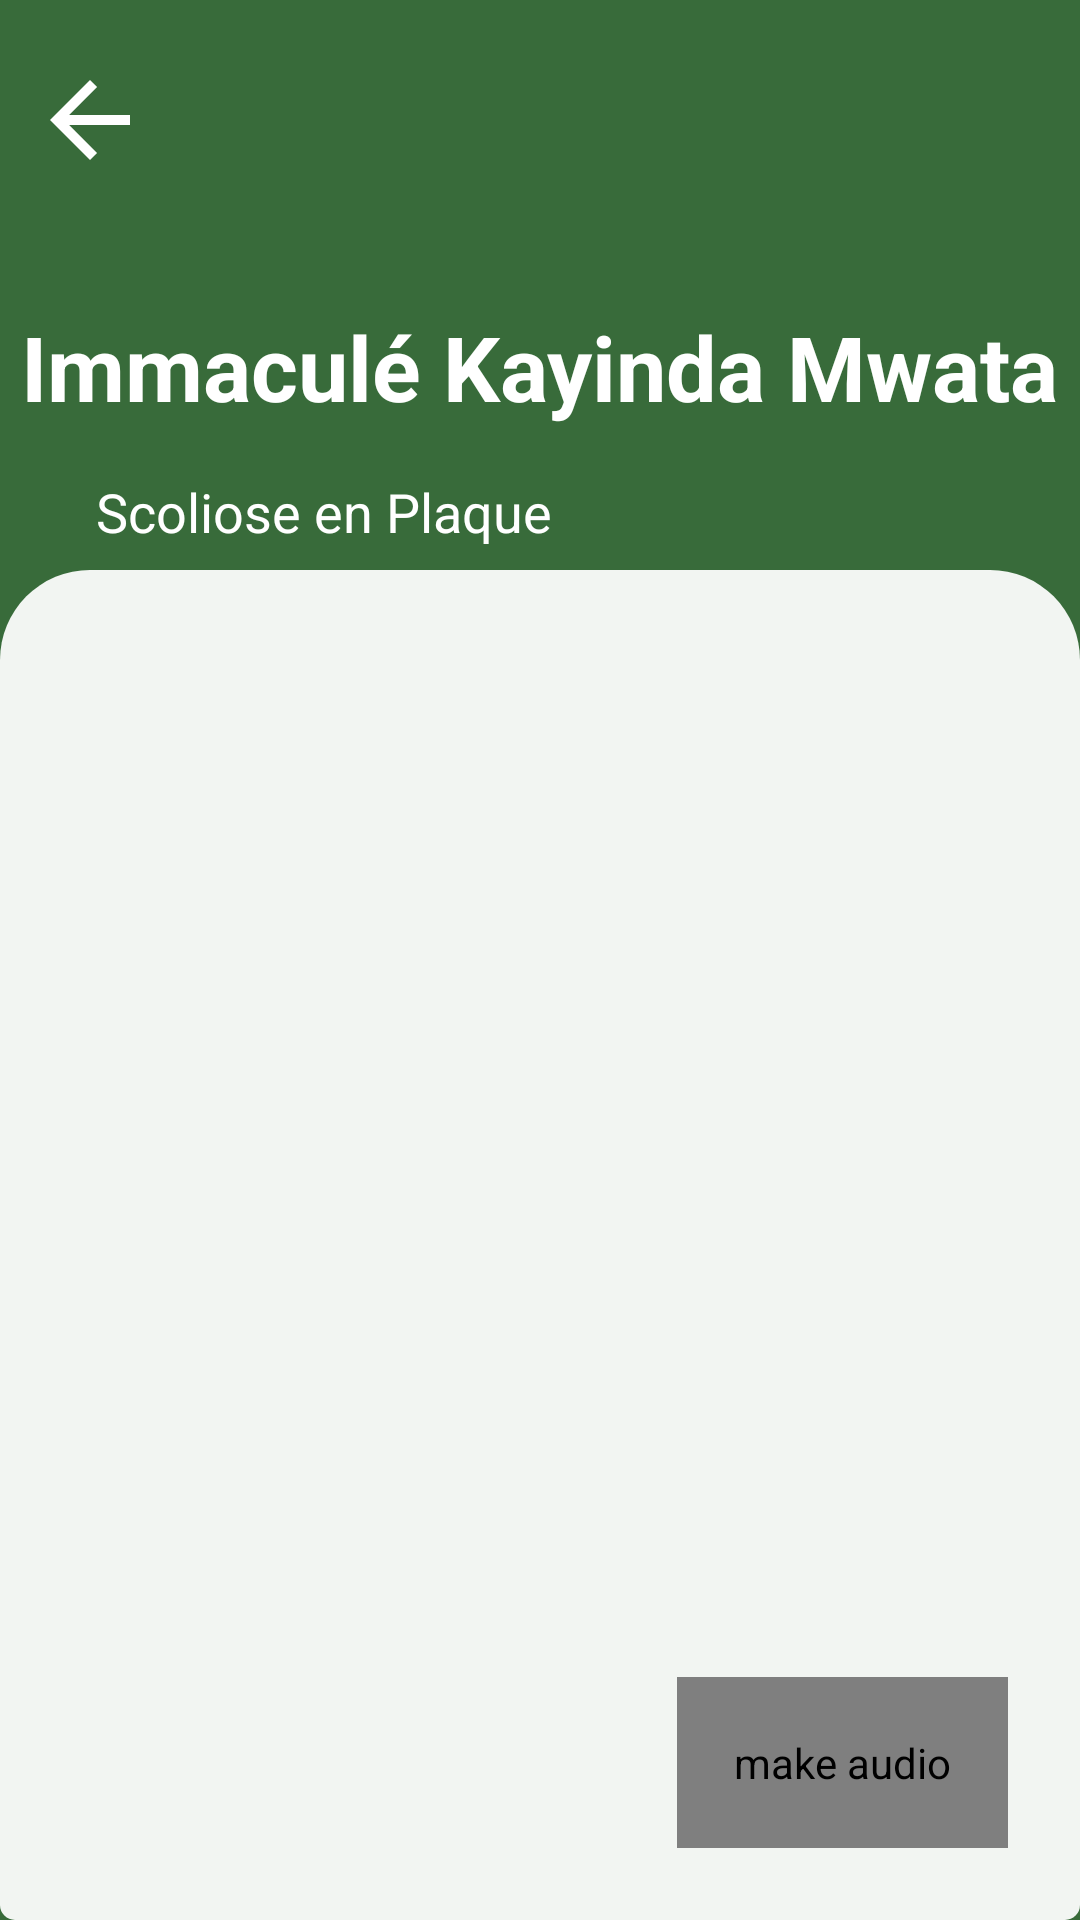

Named icons in this screenshot (1080px x 1920px) and their centers, (x,y):
backbutton: (90,120)
